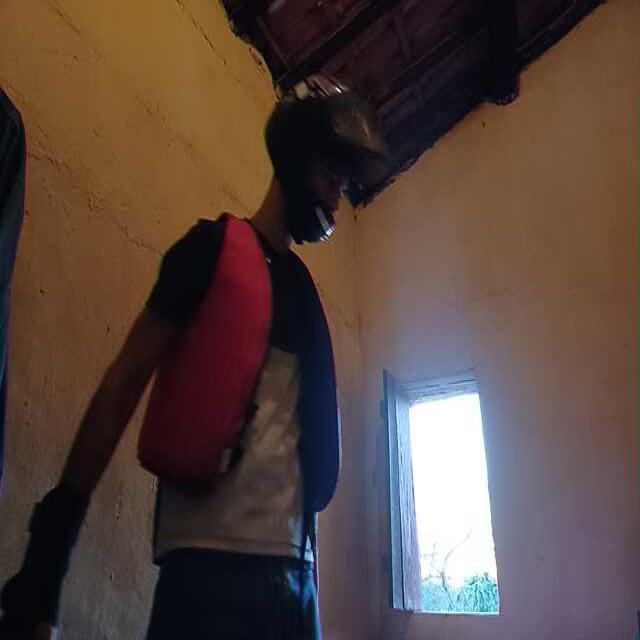capacete: (266, 72, 386, 247)
colete: (158, 201, 264, 481), (296, 268, 350, 512)
pessoa: (25, 122, 367, 640)
